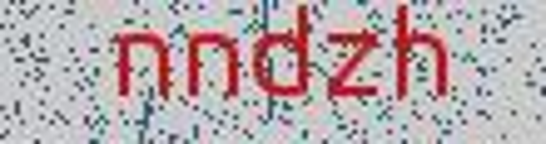d: (248, 2, 313, 108)
h: (389, 3, 456, 111)
n: (111, 25, 177, 108), (184, 25, 244, 102)
z: (322, 18, 385, 110)
